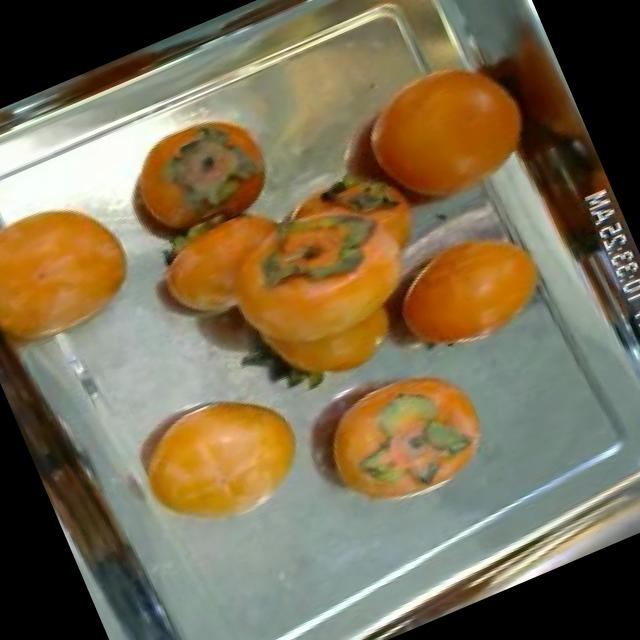Fruit: (325, 20, 567, 242), (100, 355, 336, 565), (286, 344, 514, 540), (0, 163, 166, 378), (97, 91, 300, 265), (368, 206, 564, 381)
